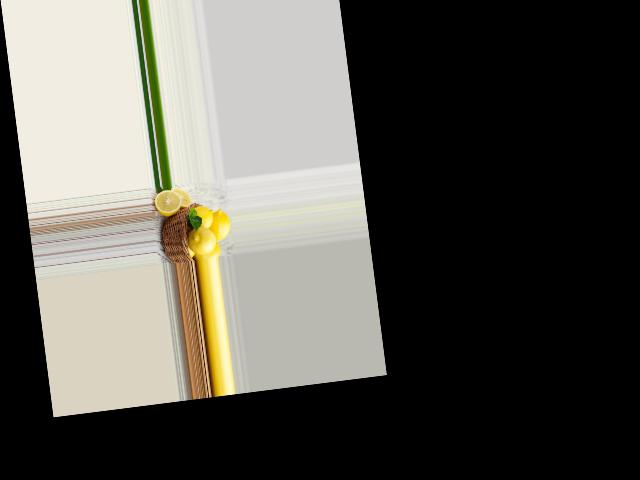lemon: (186, 202, 216, 234)
